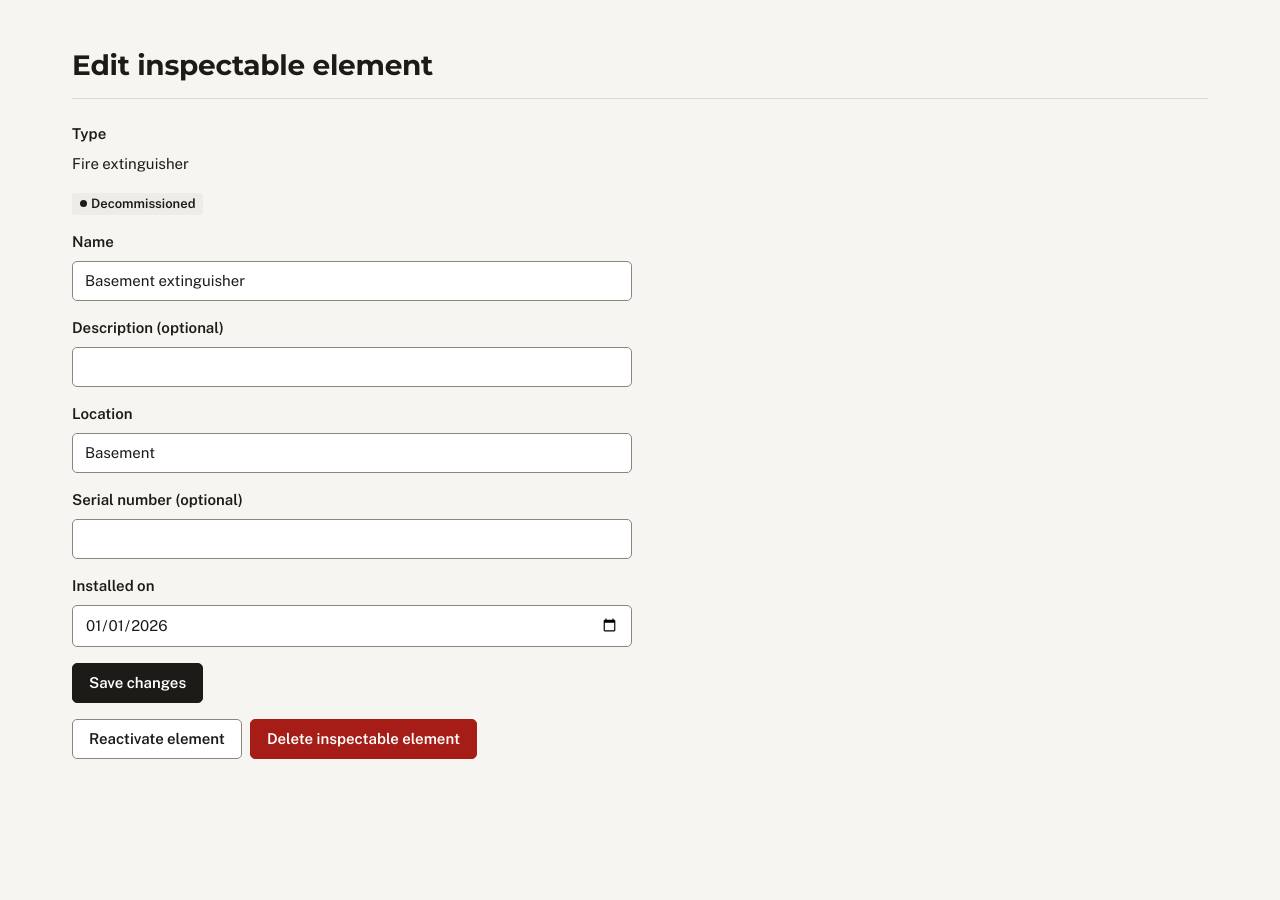
Test: InspectableElementEditPage › decommission / reactivate control › reactivates a decommissioned element without a confirmation dialog
Click the button with test id "inspectable-element-edit-reactivate".
click(157, 738)  # box [72,718,242,758]
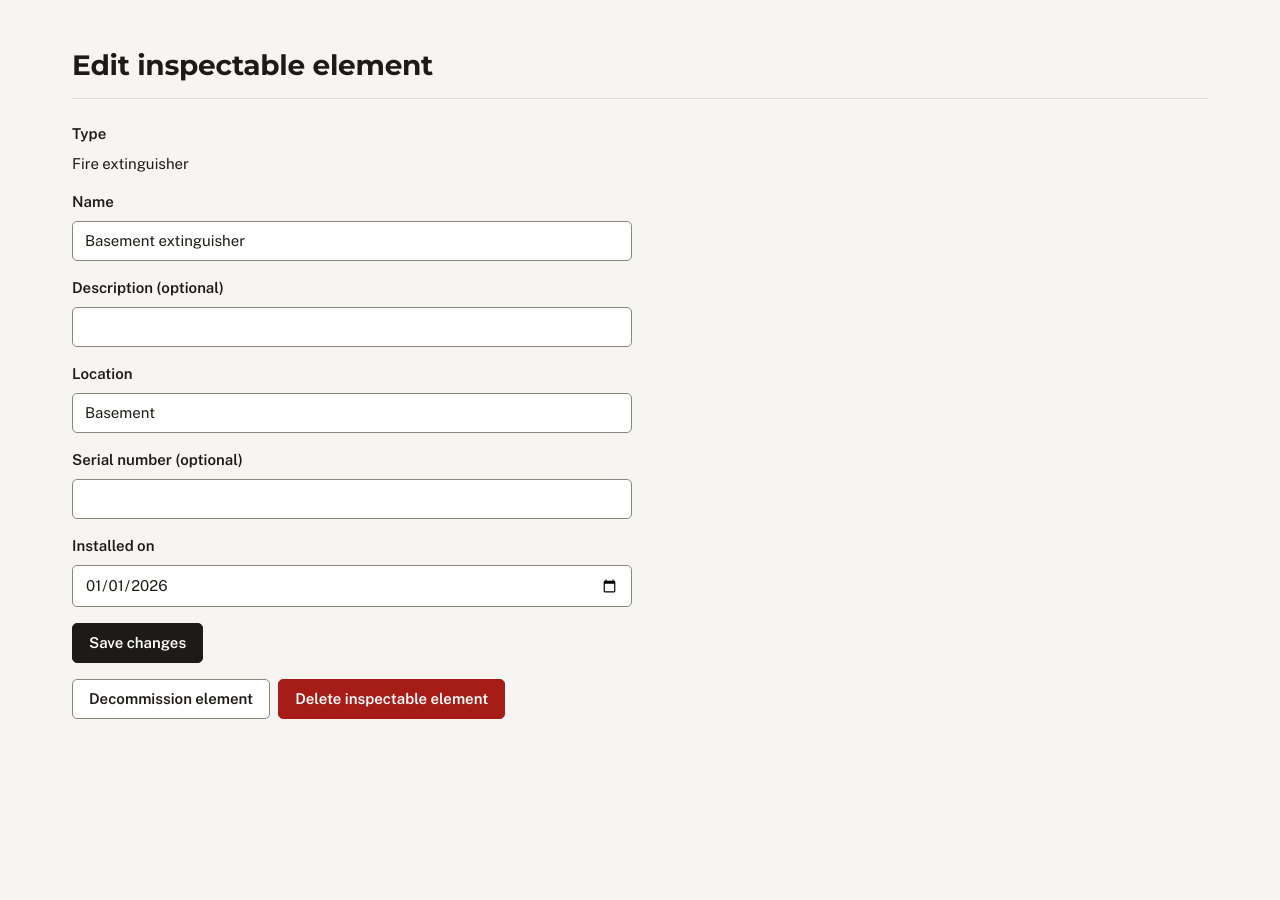
expect the button with test id "inspectable-element-edit-decommission" is shown: met, box [72,679,270,719]
